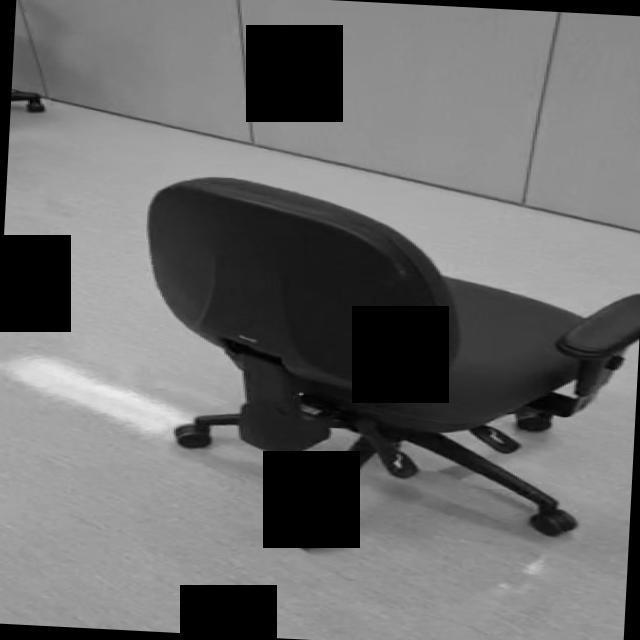chair: (128, 172, 640, 564)
